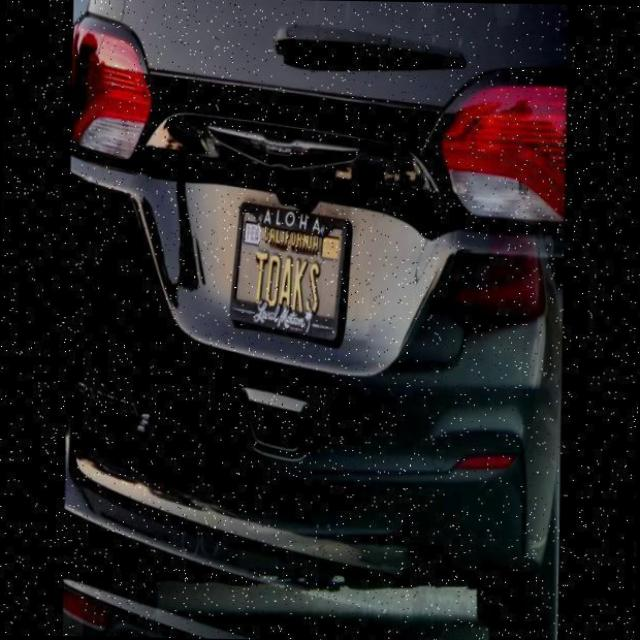LicensePlate: (227, 193, 346, 334)
